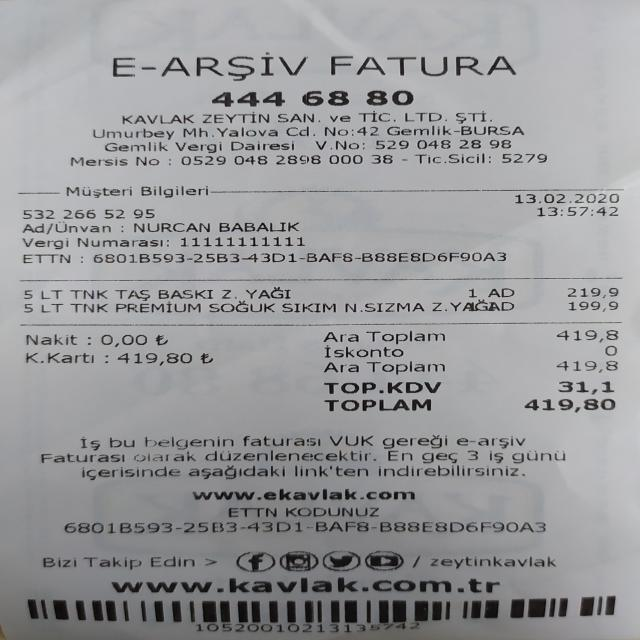text: (111, 576, 498, 594), (329, 51, 514, 81), (160, 52, 305, 83), (63, 518, 305, 534), (191, 486, 413, 502), (205, 447, 370, 465), (382, 518, 544, 534), (93, 252, 300, 264), (430, 553, 557, 572), (378, 463, 518, 479), (362, 250, 506, 263), (324, 396, 430, 413), (195, 623, 418, 631), (187, 464, 284, 481), (323, 380, 439, 394), (80, 465, 179, 481), (144, 433, 232, 450), (41, 447, 124, 465), (180, 235, 304, 247), (344, 297, 424, 315), (244, 433, 327, 450), (23, 348, 99, 366), (116, 301, 200, 316), (524, 397, 614, 411), (83, 551, 143, 572), (211, 89, 285, 106), (117, 350, 191, 367), (514, 192, 618, 204), (294, 463, 367, 480), (182, 125, 277, 138), (385, 433, 454, 450), (324, 343, 402, 358), (121, 110, 193, 126), (432, 300, 514, 314), (286, 506, 378, 518), (214, 298, 275, 316), (133, 447, 194, 465), (143, 184, 220, 198), (133, 220, 209, 234), (202, 110, 268, 126), (369, 360, 435, 376), (92, 126, 173, 139), (536, 204, 616, 217), (218, 220, 298, 233), (77, 236, 163, 248), (416, 151, 488, 165), (66, 184, 130, 198), (568, 296, 617, 314), (372, 330, 435, 344), (514, 447, 563, 465), (458, 123, 524, 136), (556, 328, 617, 342), (555, 359, 616, 373), (314, 518, 366, 534), (284, 298, 330, 316), (104, 140, 167, 153), (230, 139, 293, 152), (158, 286, 212, 301), (365, 88, 412, 105), (70, 153, 126, 167), (557, 380, 613, 394), (478, 433, 524, 450), (55, 220, 110, 234), (300, 89, 348, 105), (386, 124, 450, 136), (329, 433, 372, 450), (149, 554, 194, 570), (112, 52, 134, 84), (26, 332, 76, 346), (100, 332, 146, 347), (242, 286, 290, 300), (70, 298, 107, 316), (567, 286, 618, 299), (38, 555, 77, 572), (421, 447, 457, 465), (174, 139, 220, 153), (306, 250, 352, 264), (501, 150, 546, 164), (68, 286, 106, 302), (22, 236, 68, 249), (275, 152, 320, 165), (114, 286, 150, 302), (227, 506, 275, 518), (315, 138, 358, 151), (181, 153, 224, 166), (276, 109, 310, 125), (323, 359, 357, 375), (22, 252, 67, 264), (406, 108, 439, 124), (358, 108, 388, 125), (323, 329, 357, 344), (384, 447, 412, 465), (140, 52, 156, 83), (455, 108, 486, 124), (416, 137, 450, 151), (233, 152, 266, 166), (108, 433, 134, 450), (328, 152, 361, 165), (375, 138, 407, 151), (21, 208, 54, 220), (41, 298, 62, 316), (62, 208, 94, 219), (488, 286, 513, 299), (285, 124, 308, 138), (323, 124, 347, 137), (488, 136, 510, 150), (40, 288, 62, 302), (81, 433, 99, 450), (135, 153, 158, 166), (21, 221, 44, 234), (370, 151, 391, 165), (489, 447, 505, 465), (458, 137, 480, 150), (356, 124, 377, 137), (132, 207, 154, 219), (103, 207, 124, 219), (220, 286, 236, 300), (456, 433, 467, 450), (330, 114, 353, 122), (603, 344, 617, 356), (23, 298, 32, 316), (467, 447, 476, 465), (484, 107, 492, 124), (445, 108, 453, 124), (23, 288, 32, 302), (517, 462, 524, 479), (402, 151, 410, 165), (468, 286, 476, 299), (469, 433, 475, 450), (390, 108, 396, 124), (371, 447, 376, 465), (314, 108, 319, 125), (454, 122, 460, 136), (488, 150, 494, 164), (47, 220, 53, 234), (306, 518, 311, 534), (372, 518, 377, 534), (354, 250, 360, 263), (163, 235, 168, 248), (77, 252, 82, 264), (300, 250, 304, 264), (87, 332, 90, 347), (311, 124, 314, 138), (350, 124, 353, 137), (105, 350, 107, 366), (361, 138, 363, 151), (121, 220, 122, 234), (168, 153, 169, 166)
